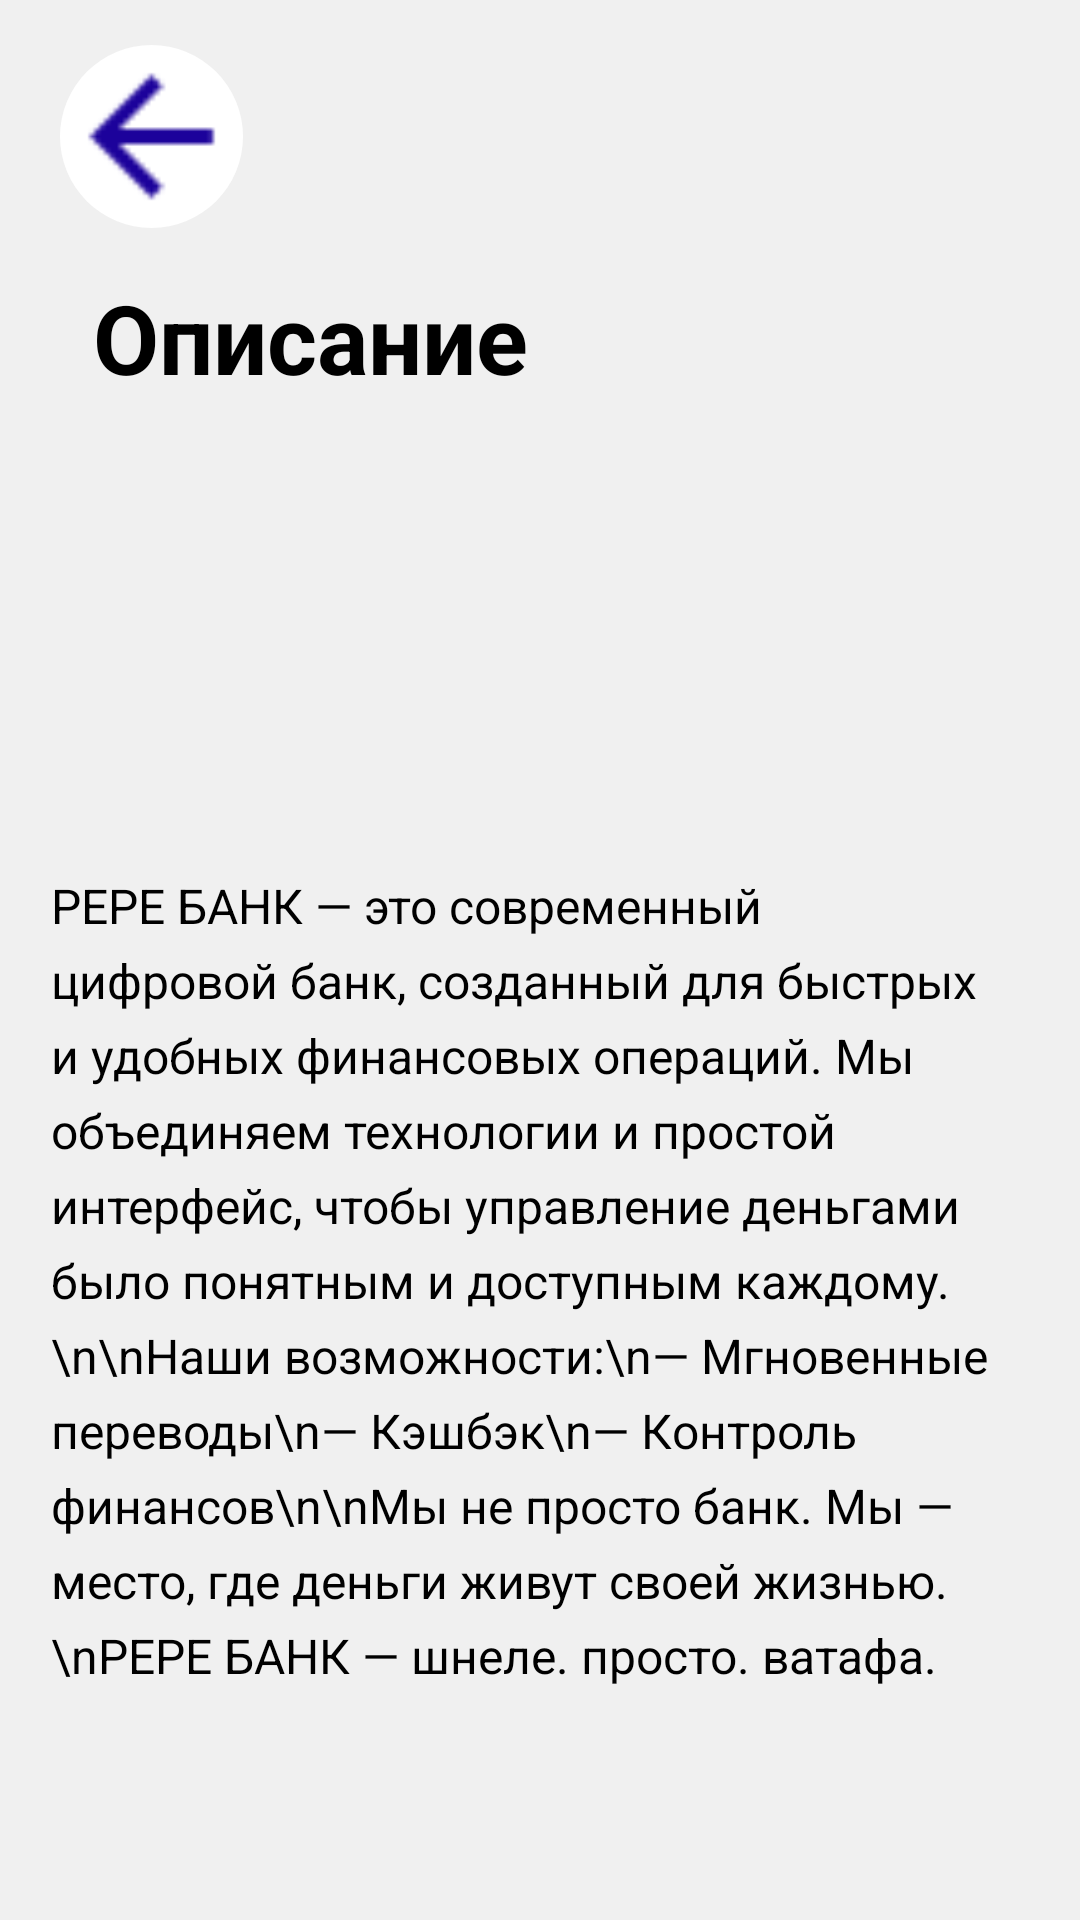

Named icons in this screenshot (1080px×1920px) and their bounding boxes, rect(x1, y1, x2, y2):
back: rect(60, 45, 243, 228)
